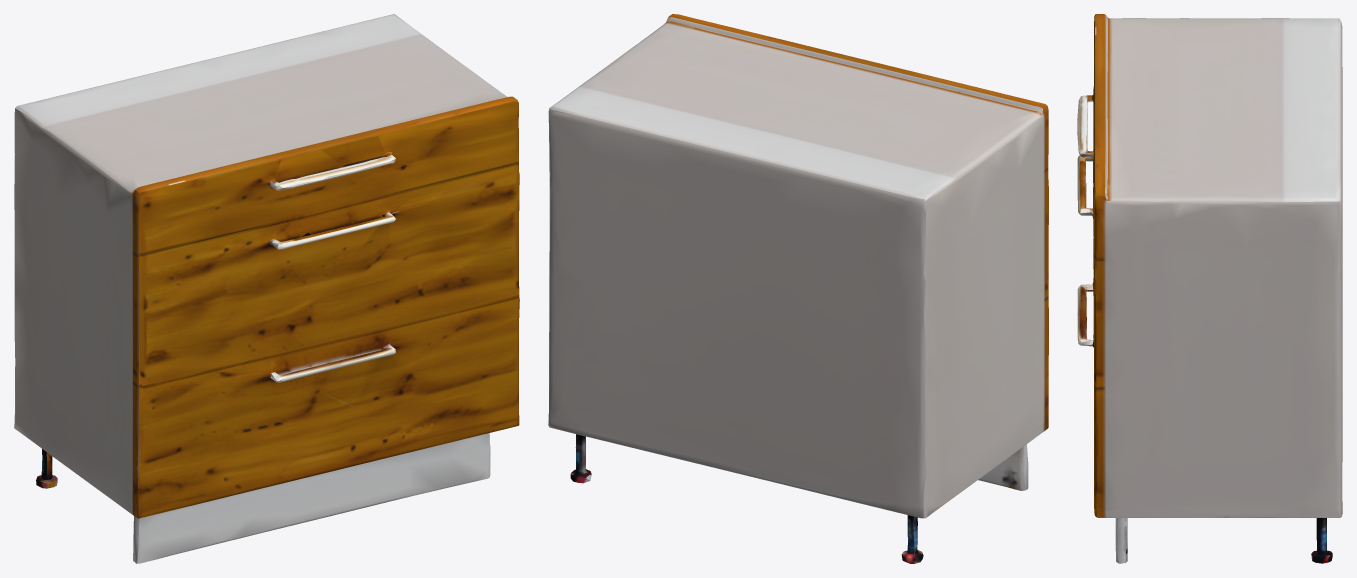
Rendered from PlanCuisine1_3D_textured.glb.
3 views of the same model, side by side, from view 1: azimuth 30°, elevation 25°; view 2: azimuth 150°, elevation 25°; view 3: azimuth 270°, elevation 25° (orthographic).
Parts seen in each view (by area): view 1: temp_mesh.ply; view 2: temp_mesh.ply; view 3: temp_mesh.ply.
Boxes of the visible parts, x1,y1,x2,y2 form: temp_mesh.ply: (14, 14, 519, 563); temp_mesh.ply: (548, 14, 1048, 563); temp_mesh.ply: (1077, 14, 1342, 563).
Bounding box in the file's own units: 1.97 × 1.89 × 1.2.
Materials: 1 (1 with a texture image).
